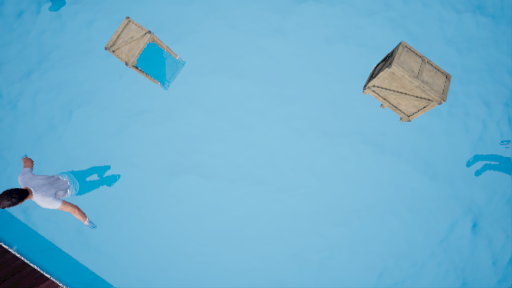person: (5, 158, 124, 226)
